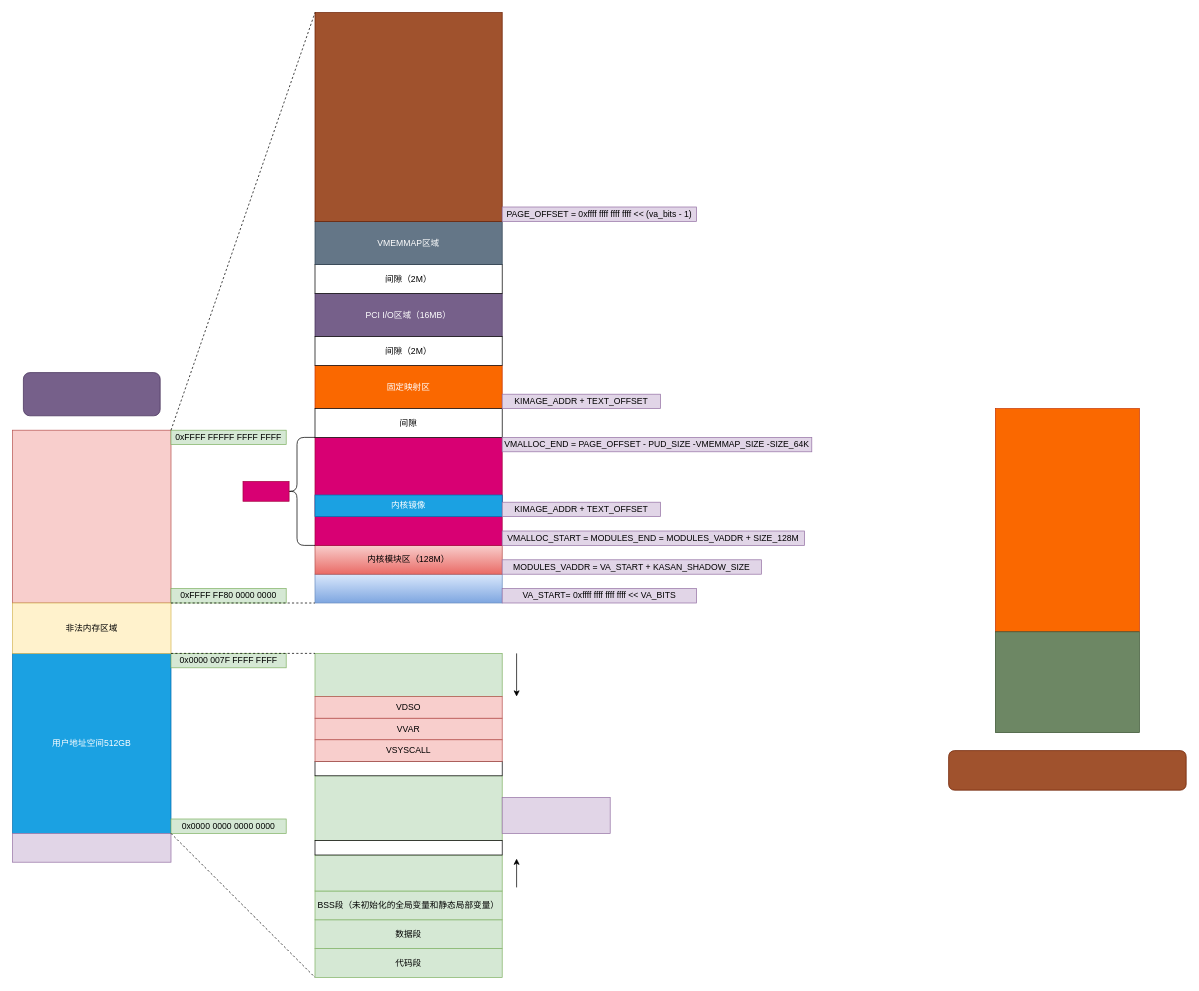
The diagram is 1199 pixels wide and 991 high, and some of its shapes have lost their labels. The centre of each missing label's shape, as x and y in pixels:
"heap" goes at point (408, 872).
"KASAN影子区" goes at point (408, 588).
"mmap（文件映射、匿名映射）" goes at point (408, 808).
"stack（ulimit -s查看默认不能大于8M）" goes at point (408, 675).
"VMALLOC 区域" goes at point (265, 491).
"ZONE_DMA" goes at point (1067, 682).
"ZONE_NORMAL" goes at point (1067, 520).
"内核地址空间512GB" goes at point (91, 516).
"可能向上，也可能向下" goes at point (555, 815).
"线性映射区(256G)" goes at point (408, 116).
"虚拟地址空间" goes at point (91, 394).
"这里介绍一个正常64位机器的物理空间zone layout" goes at point (1067, 770).
"页大小4KB，虚拟地址39bit" goes at point (91, 847).
